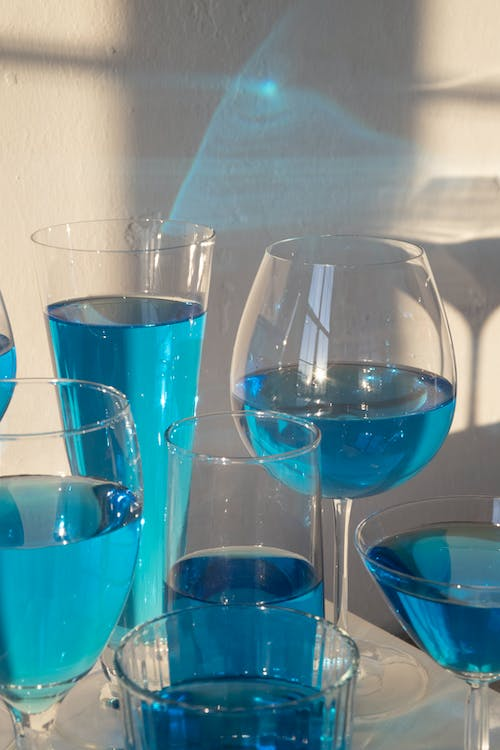alcohol: (228, 232, 459, 722), (26, 215, 217, 719), (0, 374, 146, 750), (163, 407, 327, 690), (352, 492, 500, 750), (111, 603, 362, 750), (0, 280, 21, 425)
